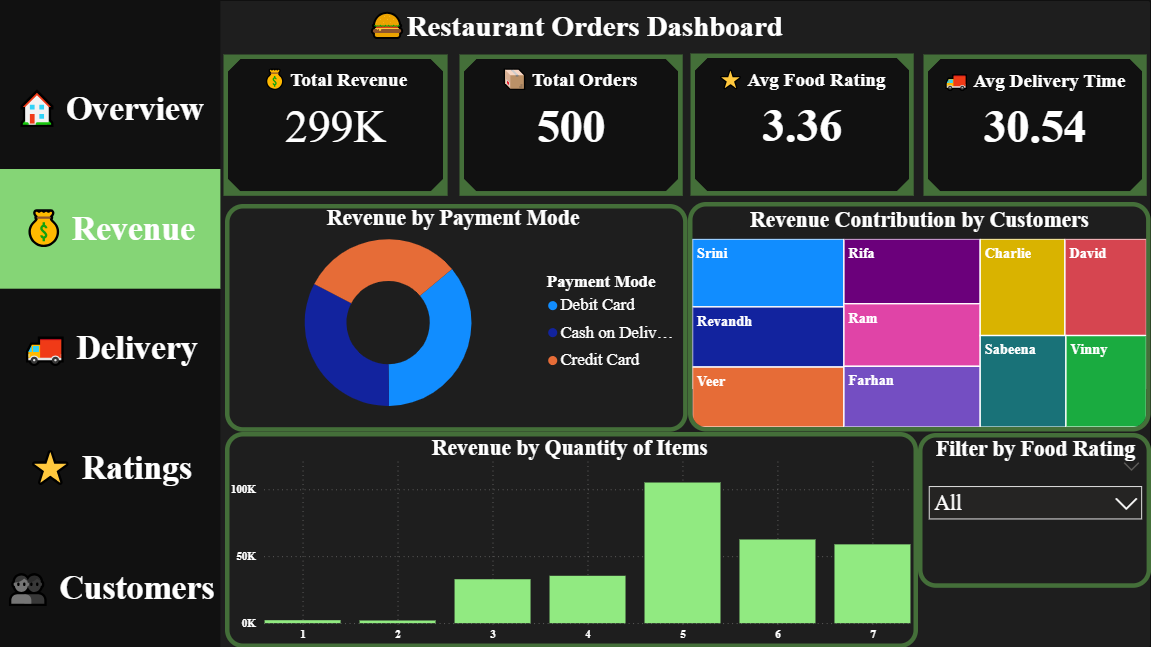

What the dashboard file says about the page in this screenshot:
{"tool":"powerbi","page":{"name":"Revenue ","canvas":[1280,720],"ordinal":1},"visuals":[{"type":"shape","box":[0,0,246.2,720],"z":0},{"type":"textbox","box":[0,0,1280,55],"z":1000},{"type":"textbox","box":[0,54.4,246.9,132.9],"z":2000},{"type":"textbox","box":[0,187.4,245.6,132.9],"z":3000},{"type":"textbox","box":[0,320.3,245.6,132.9],"z":4000},{"type":"textbox","box":[0,453.3,245.6,132.9],"z":5000},{"type":"textbox","box":[0,586.2,245.6,132.9],"z":6000},{"type":"cardVisual","fields":{"Data":["Sum(restaurant_orders_db order.Order Amount)"]},"box":[244.4,55.4,259.5,167.6],"z":7000},{"type":"textbox","box":[259.8,67.3,227.5,53.8],"z":8000},{"type":"cardVisual","fields":{"Data":["CountNonNull(restaurant_orders_db order.Order ID)"]},"box":[506.5,55.4,258.3,167.6],"z":9000},{"type":"textbox","box":[519.5,67.3,227.5,53.8],"z":10000},{"type":"cardVisual","fields":{"Data":["Avg(restaurant_orders_db order.Customer Rating-Food)"]},"box":[763.5,54.2,258.3,168.8],"z":11000},{"type":"textbox","box":[778,67.3,227.5,53.8],"z":12000},{"type":"cardVisual","fields":{"Data":["Avg(restaurant_orders_db order.Delivery Time Taken (mins))"]},"box":[1021.7,55.4,258.3,167.6],"z":13000},{"type":"textbox","box":[1036.4,68.6,227.5,52.5],"z":14000},{"type":"donutChart","fields":{"Category":["restaurant_orders_db order.Payment Mode"],"Y":["Sum(restaurant_orders_db order.Order Amount)"]},"box":[251.2,227,514.4,252.5],"z":15000},{"type":"textbox","box":[245.7,224.3,517.8,44.1],"z":16000},{"type":"treemap","fields":{"Group":["restaurant_orders_db order.Customer Name"],"Values":["Sum(restaurant_orders_db order.Order Amount)"]},"box":[765.6,224.3,514.4,255.2],"z":17000},{"type":"textbox","box":[765.6,227,514.4,41.6],"z":18000},{"type":"columnChart","fields":{"Category":["restaurant_orders_db order.Quantity of Items"],"Y":["Sum(restaurant_orders_db order.Order Amount)"]},"box":[251.2,479.5,769.6,240.4],"z":19000},{"type":"textbox","box":[247.1,479.5,775,40.3],"z":20000},{"type":"slicer","fields":{"Values":["restaurant_orders_db order.Customer Rating-Food"]},"box":[1020.8,480.8,259.2,171.9],"z":21000},{"type":"textbox","box":[1023.5,480.8,256.5,41.6],"z":22000}]}

Visuals, with their boxes in screenshot pixels (x1, y1, x2, y2), scaled from the page's 1280x720 canvas onto the 1151x647 screenshot:
shape: left=0, top=0, right=221, bottom=646
textbox: left=0, top=0, right=1150, bottom=49
textbox: left=0, top=49, right=222, bottom=168
textbox: left=0, top=168, right=221, bottom=288
textbox: left=0, top=288, right=221, bottom=407
textbox: left=0, top=407, right=221, bottom=527
textbox: left=0, top=527, right=221, bottom=646
cardVisual - Sum(restaurant_orders_db order.Order Amount): left=220, top=50, right=453, bottom=200
textbox: left=234, top=60, right=438, bottom=109
cardVisual - CountNonNull(restaurant_orders_db order.Order ID): left=455, top=50, right=688, bottom=200
textbox: left=467, top=60, right=672, bottom=109
cardVisual - Avg(restaurant_orders_db order.Customer Rating-Food): left=687, top=49, right=919, bottom=200
textbox: left=700, top=60, right=904, bottom=109
cardVisual - Avg(restaurant_orders_db order.Delivery Time Taken (mins)): left=919, top=50, right=1150, bottom=200
textbox: left=932, top=62, right=1137, bottom=109
donutChart - restaurant_orders_db order.Payment Mode x Sum(restaurant_orders_db order.Order Amount): left=226, top=204, right=688, bottom=431
textbox: left=221, top=202, right=687, bottom=241
treemap - restaurant_orders_db order.Customer Name x Sum(restaurant_orders_db order.Order Amount): left=688, top=202, right=1150, bottom=431
textbox: left=688, top=204, right=1150, bottom=241
columnChart - restaurant_orders_db order.Quantity of Items x Sum(restaurant_orders_db order.Order Amount): left=226, top=431, right=918, bottom=646
textbox: left=222, top=431, right=919, bottom=467
slicer - restaurant_orders_db order.Customer Rating-Food: left=918, top=432, right=1150, bottom=587
textbox: left=920, top=432, right=1150, bottom=469
